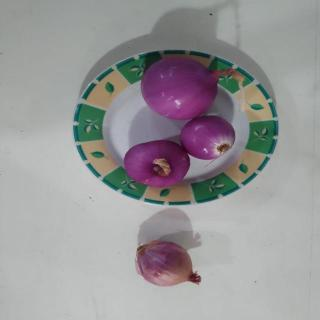Bawang Merah: (139, 56, 239, 120), (134, 240, 207, 292), (123, 140, 193, 188), (180, 115, 238, 161)
